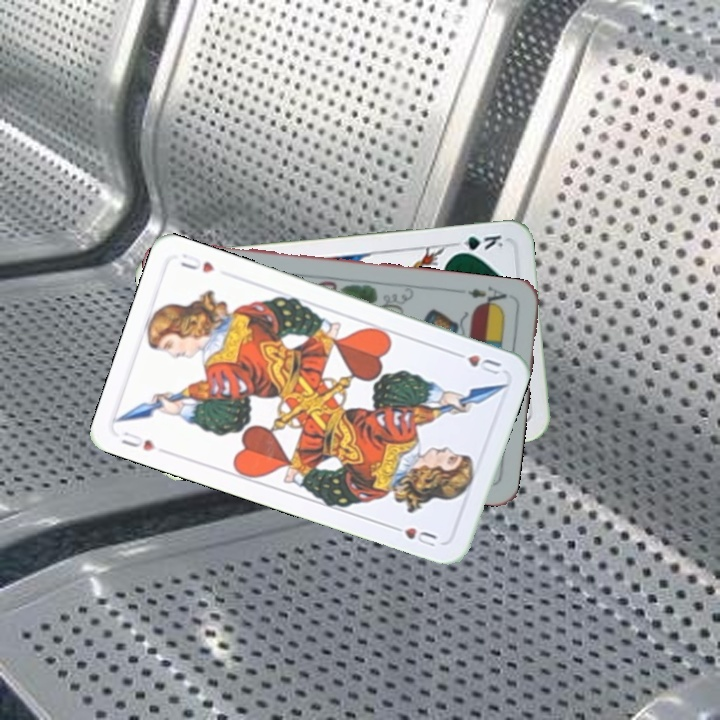EA: (464, 282, 509, 311)
GK: (448, 231, 506, 257)
HU: (448, 346, 504, 377), (117, 427, 159, 454)
